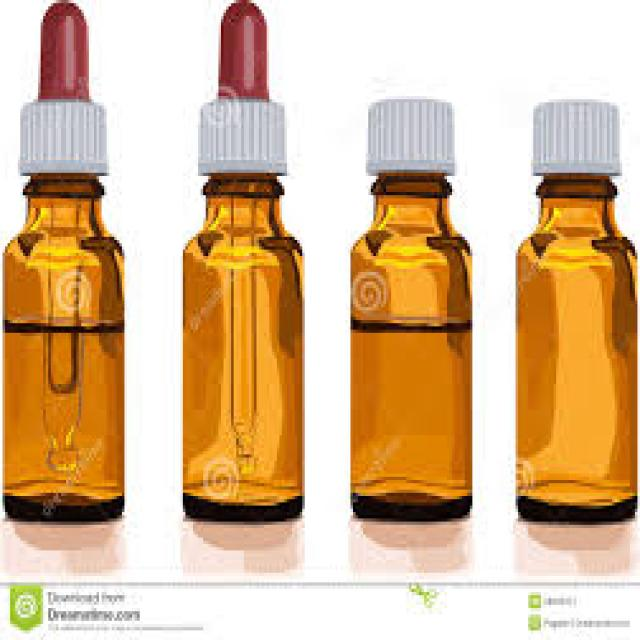glass: (516, 173, 635, 518), (183, 173, 302, 518), (3, 173, 122, 518), (350, 173, 470, 515)
